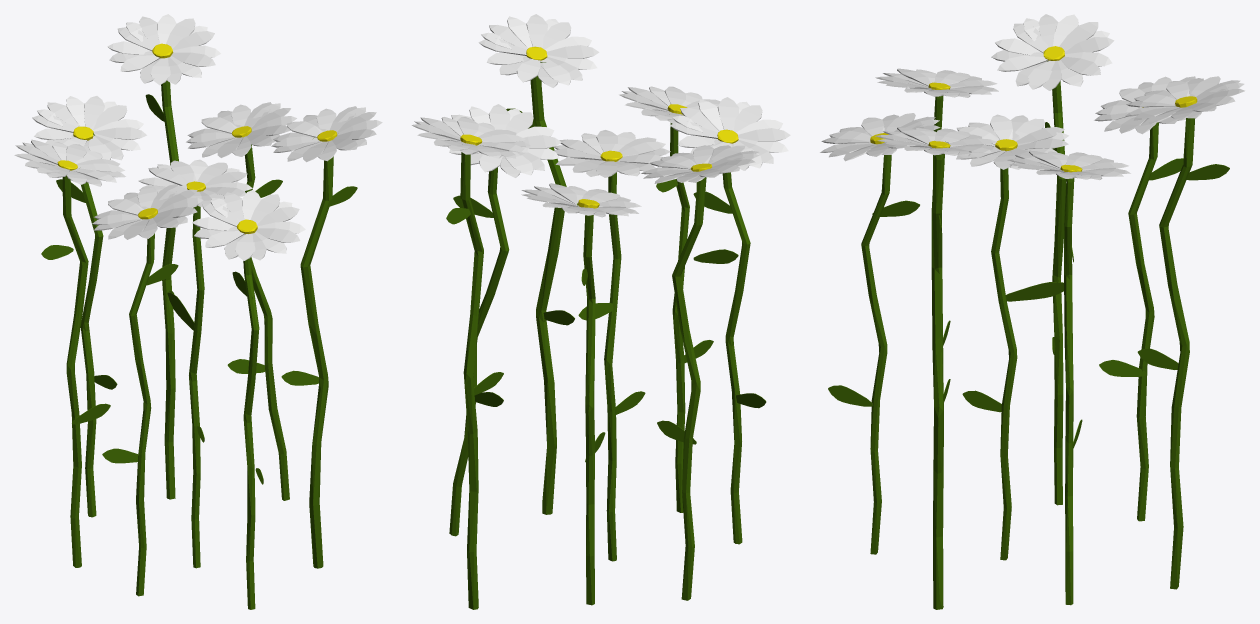
File: margaritas_felices_nuevas.fbx
3 renders of one model, left to right at view 1: azimuth 30°, elevation 25°; view 2: azimuth 150°, elevation 25°; view 3: azimuth 270°, elevation 25°, orthographic. The views are drawn at different scales.
Visible parts, largest first — view 1: margaritas, Circle.021, Circle.029, Circle.013, Circle.005, Circle, petalos :p.015, petalos :p.005, Circle.025, petalos :p.004, petalos :p.014, petalos :p.013 (+12 smaller); view 2: Circle.029, margaritas, Circle.021, Circle.025, Circle.013, Circle, petalos :p.003, petalos :p.007, petalos :p.002, Circle.017, Circle.005, petalos :p.006 (+12 smaller); view 3: margaritas, Circle.029, Circle.017, Circle.025, Circle.005, Circle.021, Circle, petalos :p.011, petalos :p.010, petalos :p.001, petalos :p.014, petalos :p.015 (+13 smaller).
Boxes of the visible parts, x1=… form: margaritas: x1=300, y1=137, x2=333, y2=568; Circle.021: x1=62, y1=175, x2=88, y2=567; Circle.029: x1=161, y1=81, x2=178, y2=499; Circle.013: x1=129, y1=233, x2=154, y2=596; Circle.005: x1=243, y1=257, x2=259, y2=609; Circle: x1=189, y1=205, x2=204, y2=568; petalos :p.015: x1=109, y1=16, x2=215, y2=84; petalos :p.005: x1=194, y1=192, x2=300, y2=260; Circle.025: x1=80, y1=133, x2=103, y2=517; petalos :p.004: x1=192, y1=190, x2=305, y2=260; petalos :p.014: x1=107, y1=14, x2=220, y2=85; petalos :p.013: x1=32, y1=96, x2=146, y2=160; Circle.029: x1=460, y1=152, x2=483, y2=609; margaritas: x1=530, y1=62, x2=566, y2=514; Circle.021: x1=672, y1=177, x2=706, y2=600; Circle.025: x1=577, y1=203, x2=595, y2=605; Circle.013: x1=722, y1=172, x2=750, y2=544; Circle: x1=604, y1=172, x2=621, y2=561; petalos :p.003: x1=478, y1=14, x2=599, y2=87; petalos :p.007: x1=670, y1=97, x2=790, y2=170; petalos :p.002: x1=481, y1=16, x2=597, y2=85; Circle.017: x1=449, y1=167, x2=509, y2=536; Circle.005: x1=670, y1=123, x2=689, y2=512; petalos :p.006: x1=672, y1=99, x2=788, y2=168; margaritas: x1=931, y1=141, x2=948, y2=609; Circle.029: x1=1159, y1=118, x2=1194, y2=589; Circle.017: x1=1064, y1=178, x2=1074, y2=605; Circle.025: x1=1128, y1=122, x2=1158, y2=521; Circle.005: x1=861, y1=155, x2=891, y2=554; Circle.021: x1=1046, y1=60, x2=1066, y2=505; Circle: x1=991, y1=168, x2=1017, y2=560; petalos :p.011: x1=991, y1=14, x2=1114, y2=90; petalos :p.010: x1=995, y1=14, x2=1112, y2=89; petalos :p.001: x1=956, y1=115, x2=1068, y2=169; petalos :p.014: x1=1125, y1=76, x2=1244, y2=124; petalos :p.015: x1=1126, y1=78, x2=1244, y2=120.
Size of the model in its own units: 2724 by 3953 by 3057.
